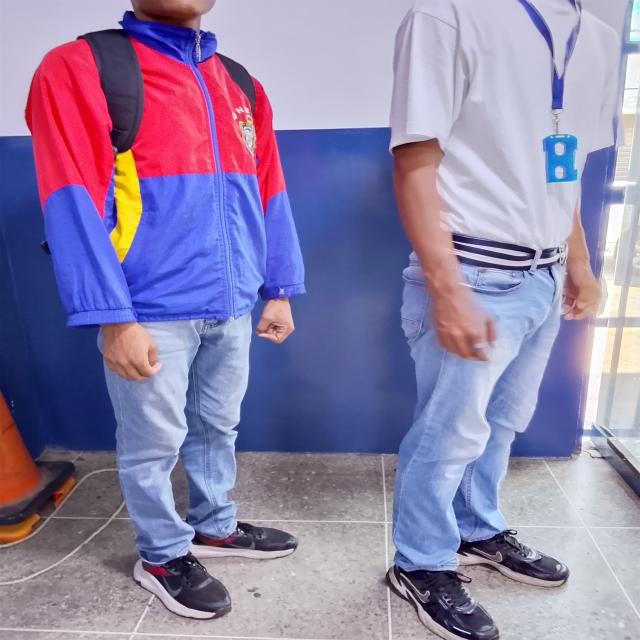carnet: (541, 135, 578, 182)
chaqueta_unefa: (23, 10, 307, 328)
